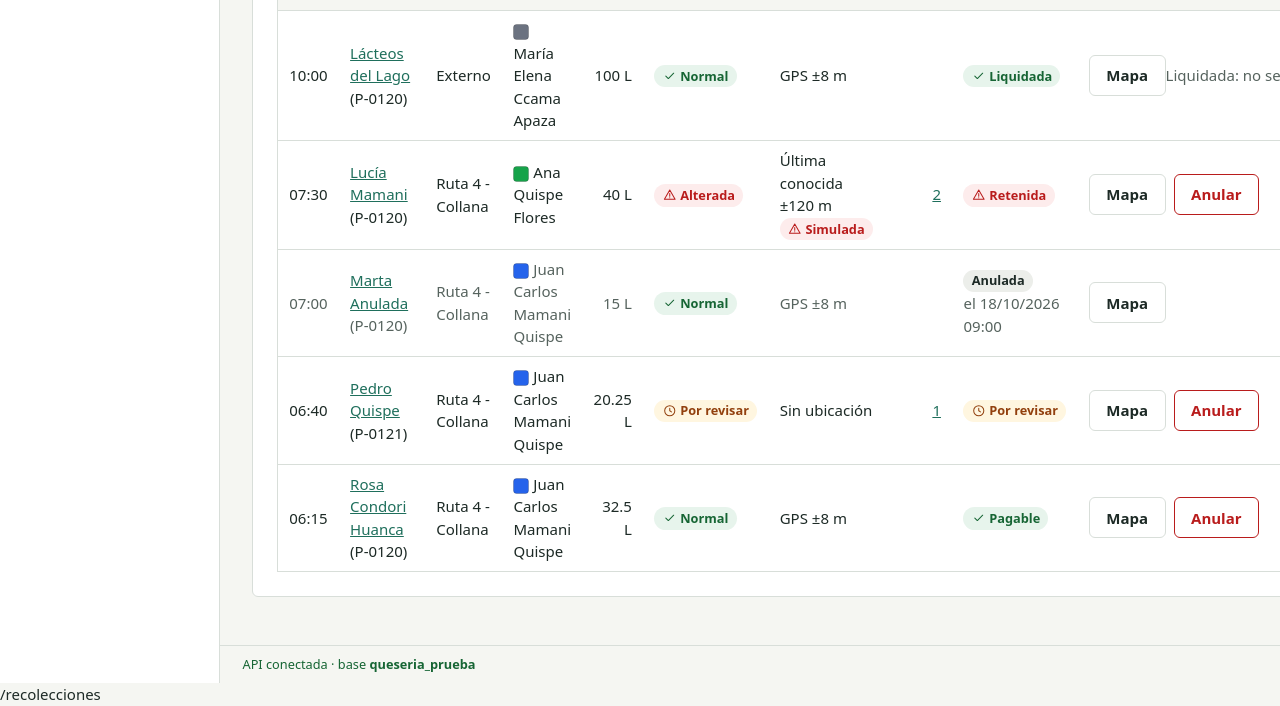
it: recolecciones del día › anular › textos siempre presentes; de ruta: el celular del acopiador la mostrará como Anulada
(page scrolled)
What coordinates should you click on to do the following:
click the button "Anular" in the row of "06:15"
I would click on:
 (1216, 518)
Its box is [1174,497,1259,538].
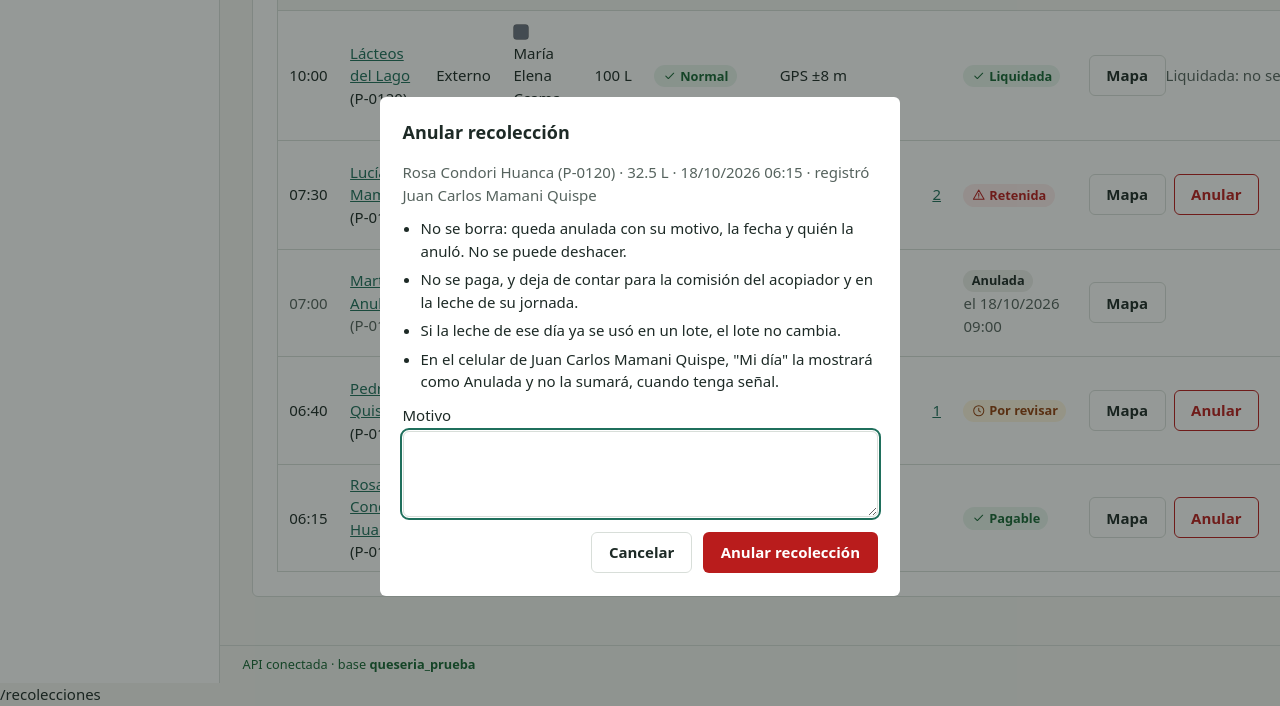
Result: the dialog "Anular recolección" shows "Rosa Condori Huanca (P-0120) · 32.5 L · 18/10/2026 06:15 · registró Juan Carlos Mamani Quispe" at [380,96,900,596]
Result: the dialog "Anular recolección" shows "No se borra: queda anulada con su motivo, la fecha y quién la anuló. No se puede deshacer." at [420,218,854,261]
Result: the dialog "Anular recolección" shows "No se paga, y deja de contar para la comisión del acopiador y en la leche de su jornada." at [420,269,873,312]
